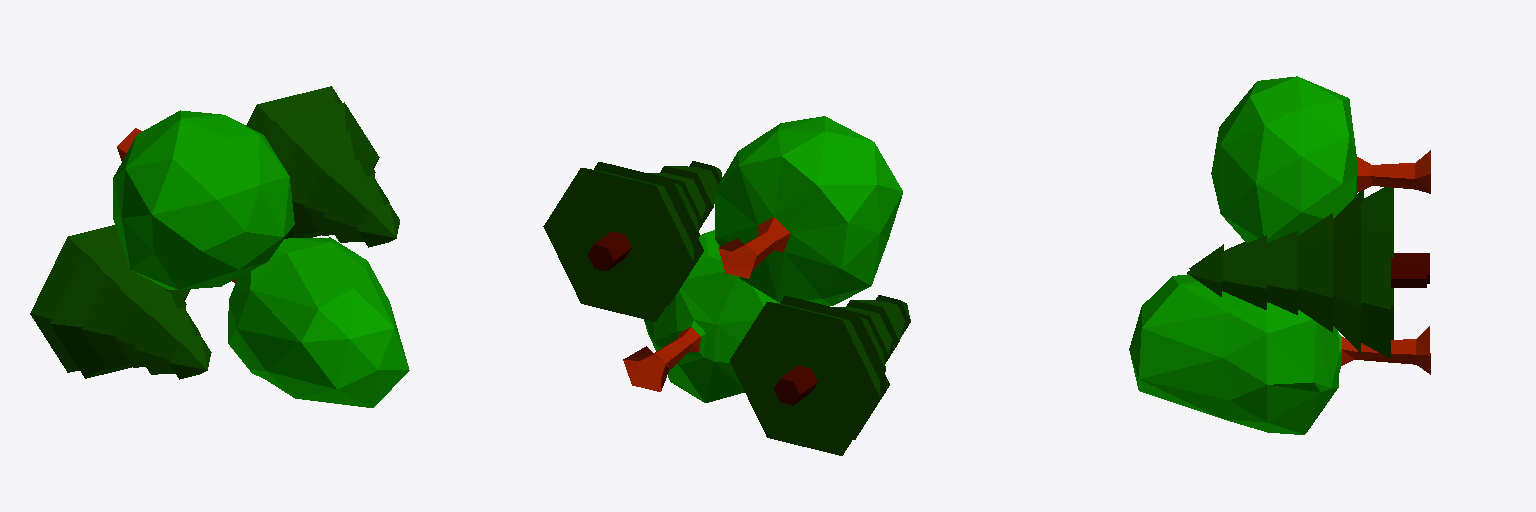
File: single_tree_1.obj
The picture shows the model from 3 angles: view 1: azimuth 30°, elevation 25°; view 2: azimuth 150°, elevation 25°; view 3: azimuth 270°, elevation 25°; orthographic projection.
Visible parts, largest first — view 1: Cylinder.002_Cylinder.003; view 2: Cylinder.002_Cylinder.003; view 3: Cylinder.002_Cylinder.003.
Part boxes in pixels (x1,y1,x2,y2): Cylinder.002_Cylinder.003: (30,86,409,407); Cylinder.002_Cylinder.003: (543,116,910,455); Cylinder.002_Cylinder.003: (1129,76,1430,434).
Bounding box in the file's own units: 2.32 × 1.93 × 1.79.